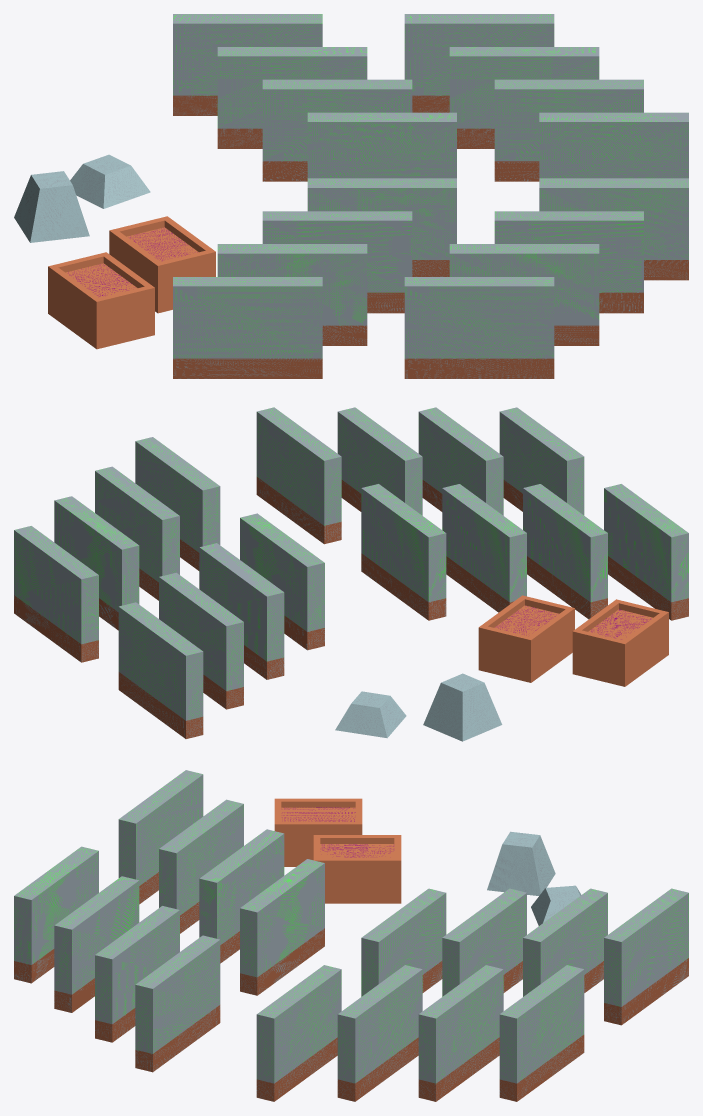
File: Vineyard.fbx
The picture shows the model from 3 angles, top to bottom: view 1: azimuth 30°, elevation 25°; view 2: azimuth 150°, elevation 25°; view 3: azimuth 270°, elevation 25°; orthographic projection. The views are drawn at different scales.
Parts seen in each view (by area): view 1: Group2, Group11, Group1, Group5, Group4, Group18, Group13, Group3, Group15, Group17, Group10, Group6 (+7 smaller); view 2: Group16, Group6, Group13, Group14, Group11, Group3, Group8, Group4, Group17, Group5, Group7, Group9 (+7 smaller); view 3: Group13, Group14, Group6, Group16, Group1, Group12, Group18, Group15, Group2, Group10, Group5, Group8 (+7 smaller).
Boxes of the visible parts, x1,y1,x2,y2 form: Group2: [404, 277, 554, 378]; Group11: [173, 277, 322, 378]; Group1: [539, 112, 688, 178]; Group5: [307, 112, 456, 178]; Group4: [262, 79, 412, 181]; Group18: [494, 79, 643, 181]; Group13: [539, 178, 688, 280]; Group3: [217, 244, 367, 345]; Group15: [449, 244, 599, 345]; Group17: [217, 47, 367, 148]; Group10: [494, 211, 643, 313]; Group6: [173, 14, 322, 115]; Group16: [361, 484, 446, 620]; Group6: [118, 602, 203, 738]; Group13: [256, 407, 341, 544]; Group14: [14, 526, 98, 662]; Group11: [604, 484, 688, 620]; Group3: [523, 484, 607, 619]; Group8: [442, 484, 526, 612]; Group4: [199, 543, 284, 679]; Group17: [159, 572, 243, 709]; Group5: [240, 513, 324, 650]; Group7: [572, 599, 668, 686]; Group9: [478, 595, 574, 682]; Group13: [135, 935, 220, 1072]; Group14: [499, 965, 584, 1101]; Group6: [604, 888, 688, 1025]; Group16: [240, 859, 324, 995]; Group1: [256, 965, 341, 1101]; Group12: [418, 965, 503, 1101]; Group18: [337, 965, 422, 1101]; Group15: [54, 876, 139, 1012]; Group2: [14, 846, 98, 983]; Group10: [95, 906, 179, 1042]; Group5: [361, 888, 446, 996]; Group8: [199, 829, 284, 963].
Size of the model in its own units: 0.914 by 0.1364 by 1.
